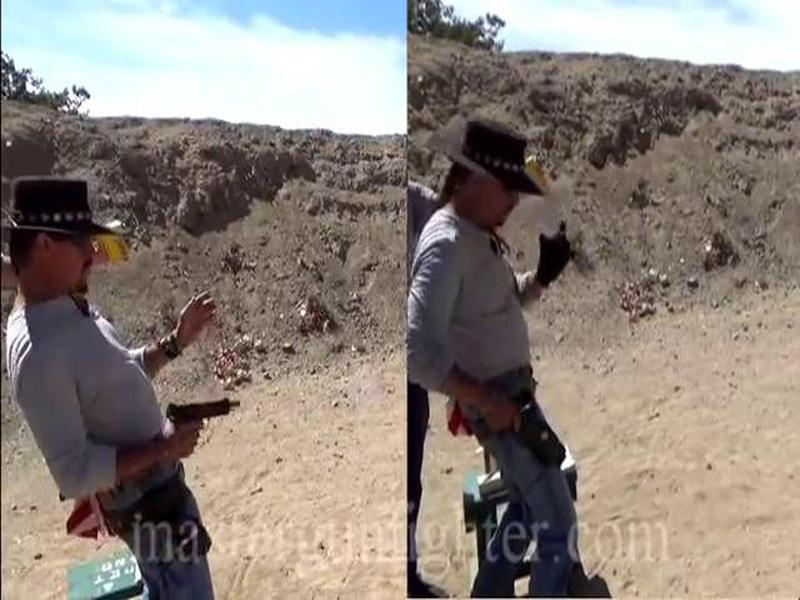Pistola: (157, 393, 241, 465)
